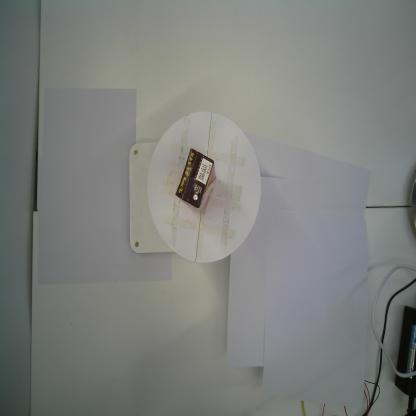Drink: (174, 146, 214, 210)
